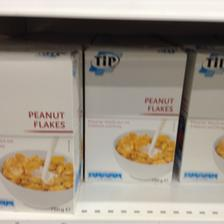Cerealien: (84, 42, 186, 182), (0, 47, 80, 212), (180, 48, 224, 182)
